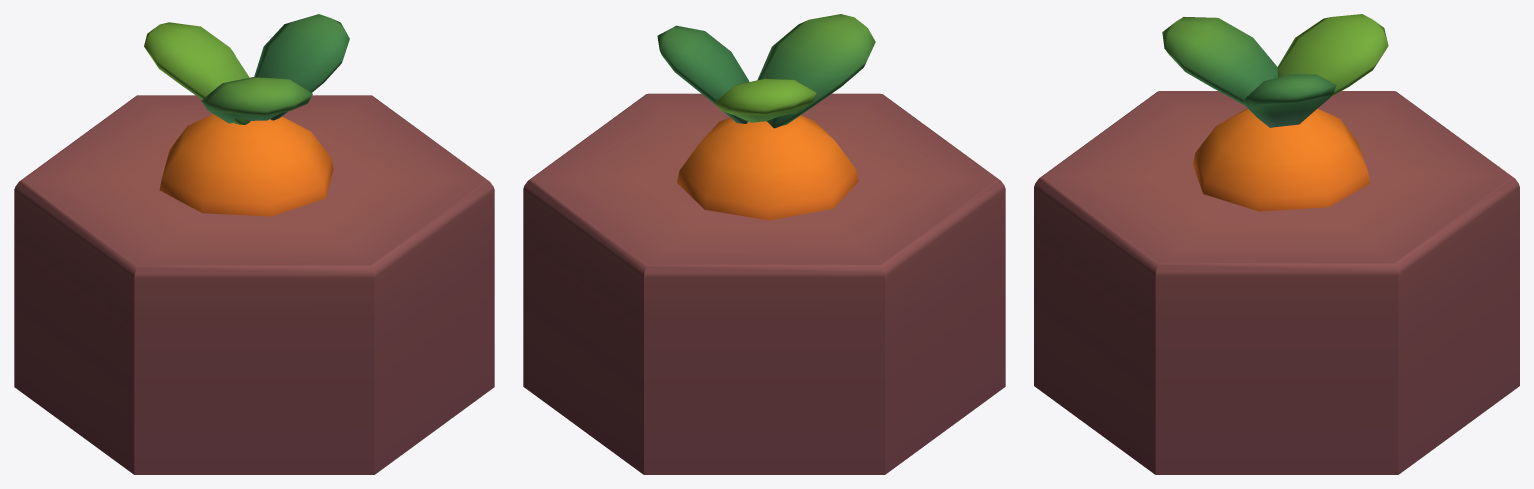
The model's file is farm_carrot1.fbx.
3 views of the same model, side by side, from view 1: azimuth 30°, elevation 25°; view 2: azimuth 150°, elevation 25°; view 3: azimuth 270°, elevation 25° (orthographic).
Parts seen in each view (by area): view 1: hexagon_soil2, Farm_Carrot.012; view 2: hexagon_soil2, Farm_Carrot.012; view 3: hexagon_soil2, Farm_Carrot.012.
Part boxes in pixels (x1,y1,x2,y2): hexagon_soil2: (14, 95, 494, 474); Farm_Carrot.012: (144, 14, 349, 216); hexagon_soil2: (523, 93, 1005, 474); Farm_Carrot.012: (657, 14, 875, 220); hexagon_soil2: (1034, 91, 1519, 474); Farm_Carrot.012: (1162, 14, 1388, 211).
Size of the model in its own units: 366 by 332 by 423.
Materials: 2 (2 with a texture image).
